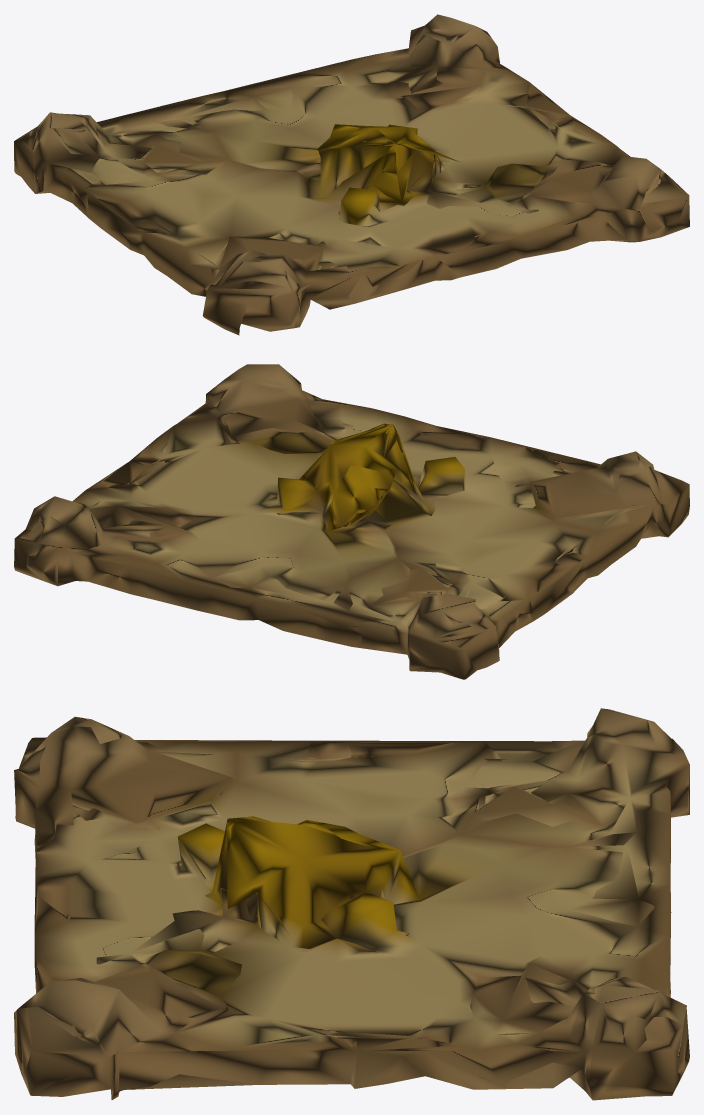
File: gen3d-treasure-map-lod0.glb
The picture shows the model from 3 angles, top to bottom: view 1: azimuth 30°, elevation 25°; view 2: azimuth 150°, elevation 25°; view 3: azimuth 270°, elevation 25°; orthographic projection. The views are drawn at different scales.
Visible parts, largest first — view 1: part_0; view 2: part_0; view 3: part_0.
Boxes of the visible parts, box(x1,y1,x2,y2) form: part_0: box(14, 14, 689, 335); part_0: box(14, 364, 689, 679); part_0: box(14, 708, 689, 1100).
Size of the model in its own units: 5.13 by 0.9701 by 4.51.
